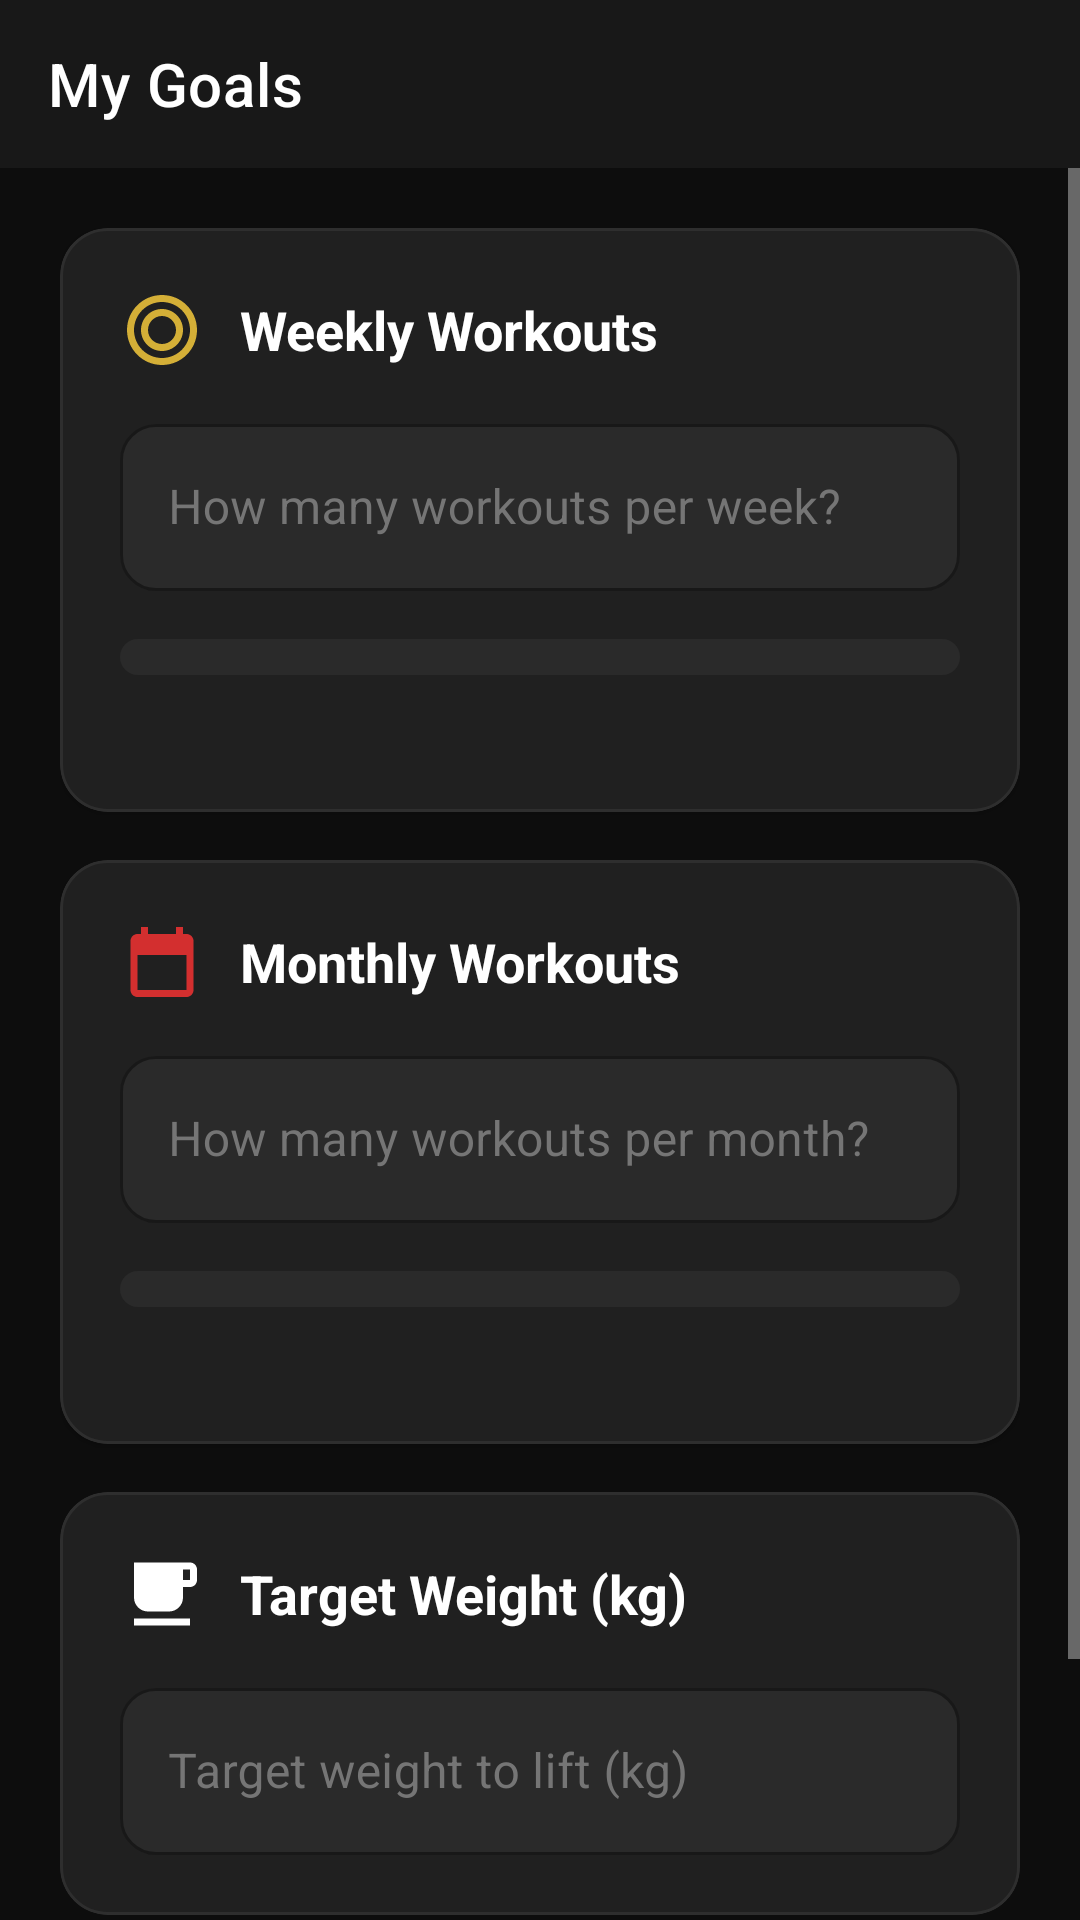

Point at icon controls on the screen. Image size 1080px x 1920px, points as point (x, y).
calendar: point (162, 962)
goal: point (162, 330)
